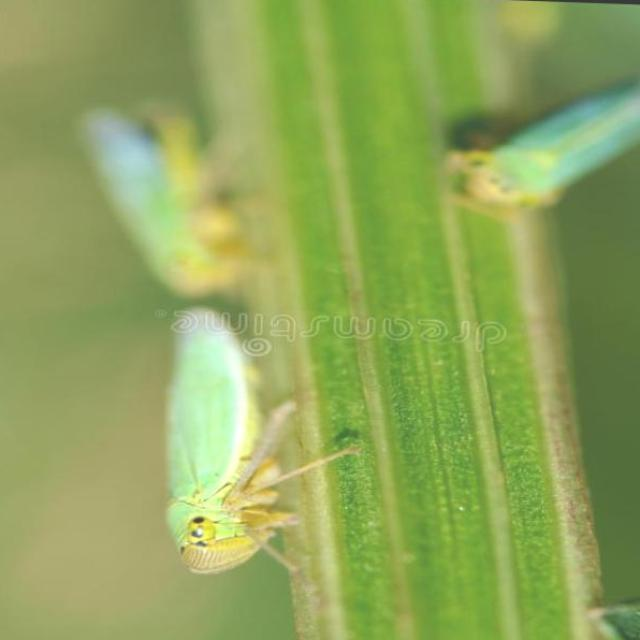green leaf hopper: (168, 310, 360, 573)
